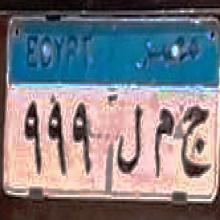9: (70, 103, 96, 174), (22, 99, 44, 175), (46, 102, 68, 176)
jeem: (181, 101, 212, 180)
laam: (118, 98, 143, 180)
meem: (152, 104, 176, 178)
